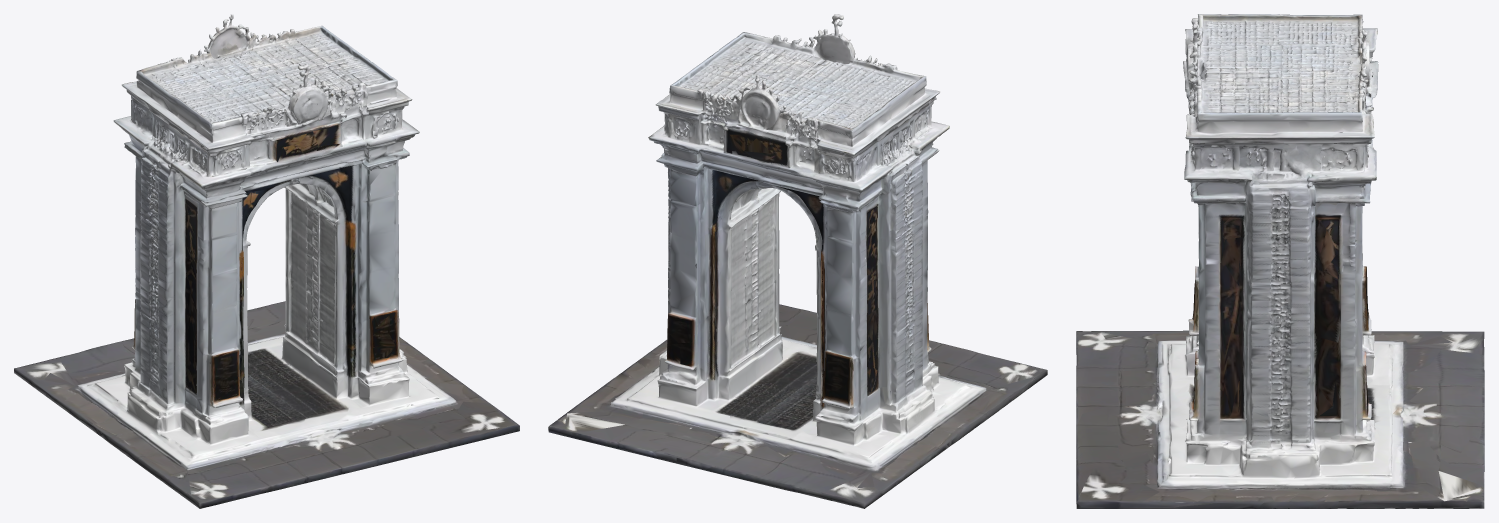
The model's file is Subject_A_commemorat.glb.
3 views of the same model, side by side, from view 1: azimuth 30°, elevation 25°; view 2: azimuth 150°, elevation 25°; view 3: azimuth 270°, elevation 25° (orthographic). The views are drawn at different scales.
Parts seen in each view (by area): view 1: Subject_A_commemorat; view 2: Subject_A_commemorat; view 3: Subject_A_commemorat.
Part boxes in pixels (box(x1,y1,x2,y2)): Subject_A_commemorat: box(14, 14, 519, 508); Subject_A_commemorat: box(548, 14, 1047, 508); Subject_A_commemorat: box(1076, 14, 1484, 508).
Size of the model in its own units: 1.82 by 1.99 by 1.83.
Materials: 1 (1 with a texture image).
